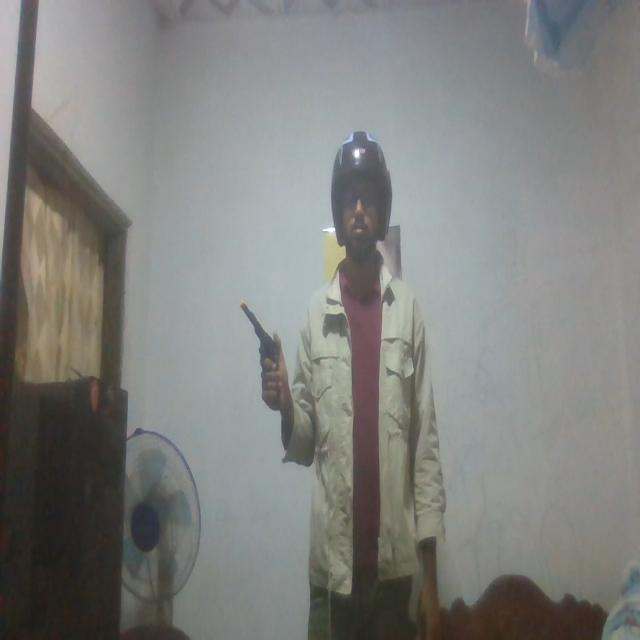Gun_Holder: (238, 298, 286, 402)
Helmet_Wearer: (326, 125, 394, 262)
Jacket_Wearer: (278, 257, 446, 570)
Person: (268, 129, 448, 640)
